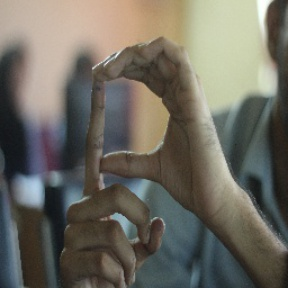D: (75, 34, 207, 208)
